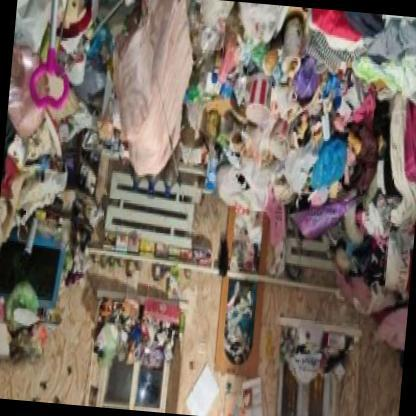Garbage: (232, 88, 367, 205), (237, 13, 329, 134), (306, 112, 384, 190), (250, 104, 316, 188), (214, 109, 260, 183)
